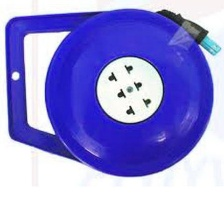three_eye_plug: (40, 5, 219, 180)
